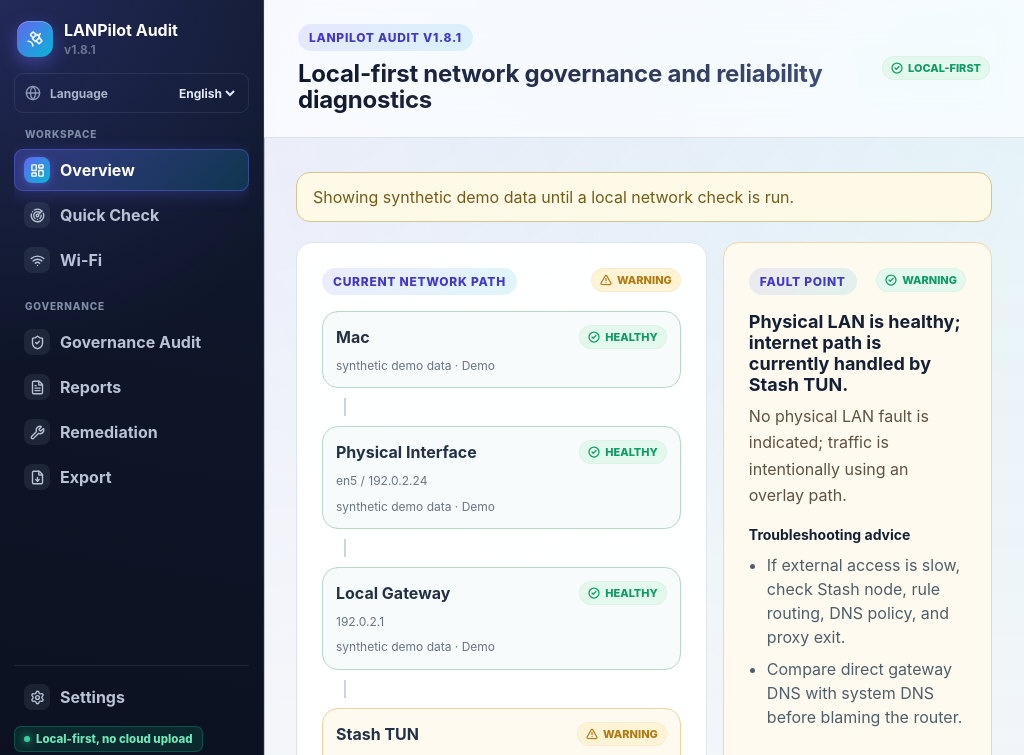
Scenario: audit authorization and failure flow › creates an export ZIP through the fixed backend command
Step 1. Click the button "Export" → (132, 477), box [14,456,249,498]
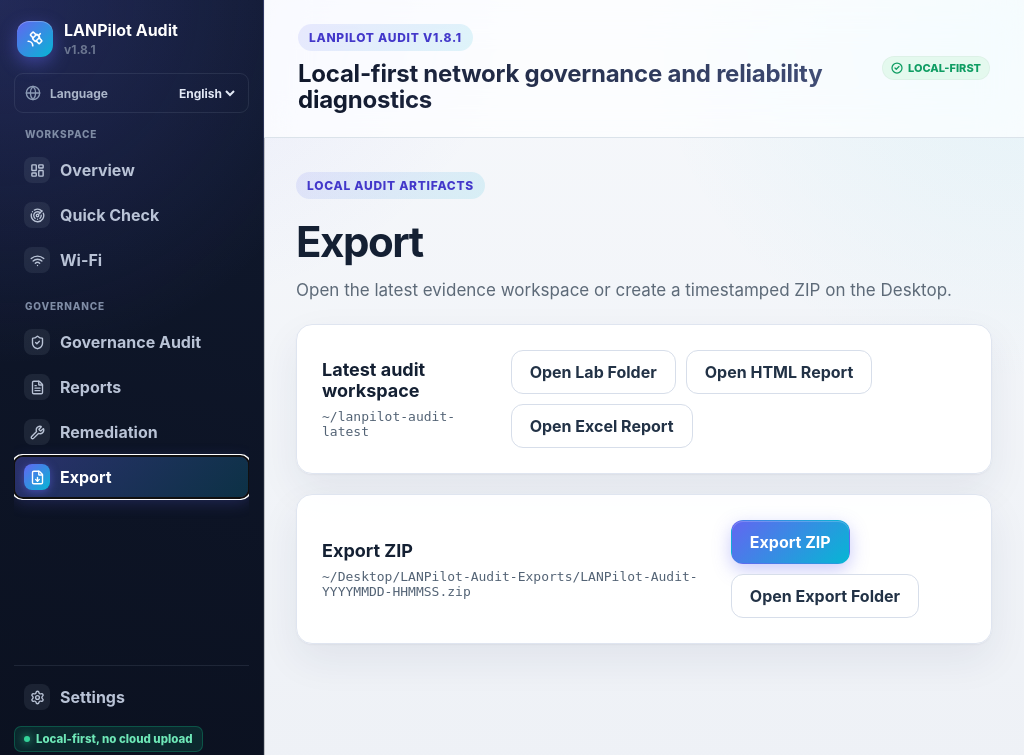
Step 2. Click the button "Export ZIP" → (790, 542), box [731,520,850,564]
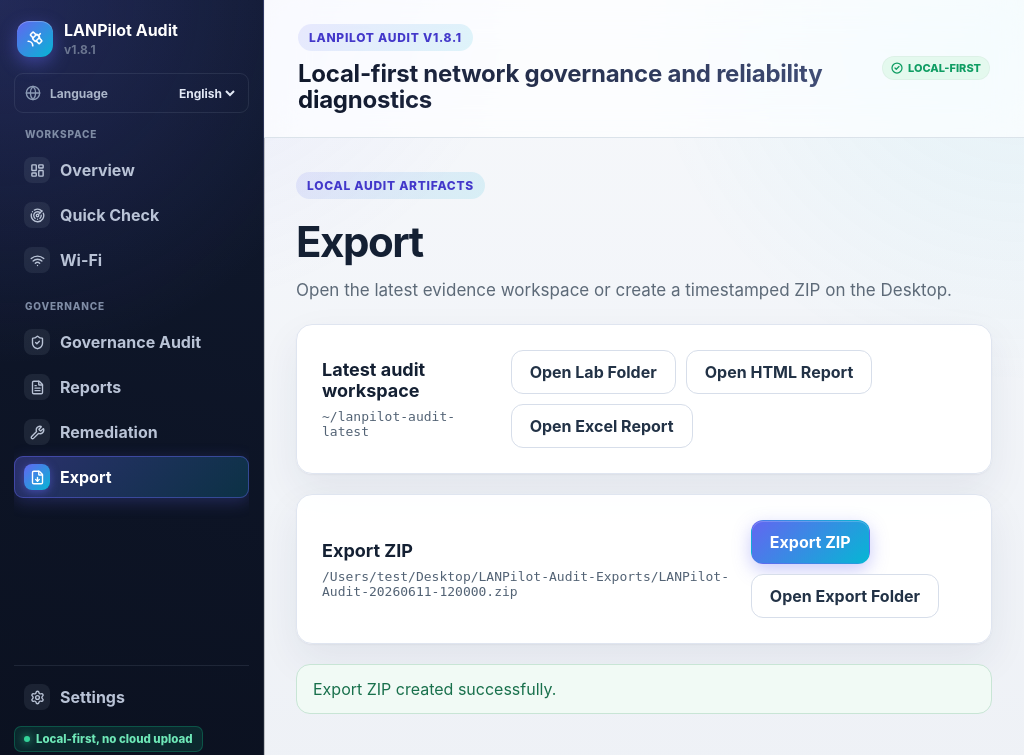
Check: the text "LANPilot-Audit-20260611-120000.zip" is shown, box [322,569,729,599]
